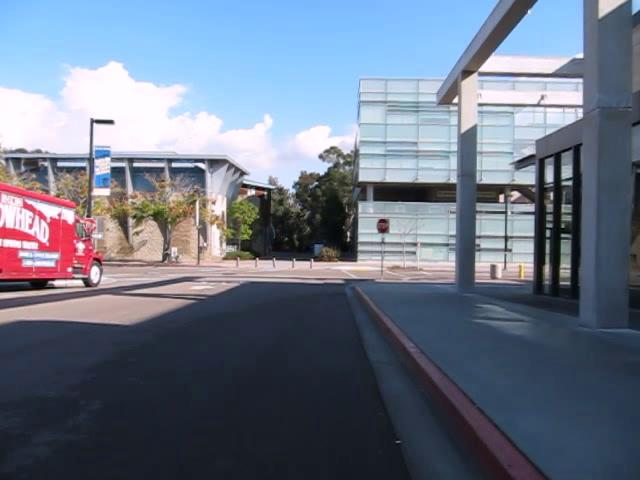stop: (376, 217, 390, 234)
